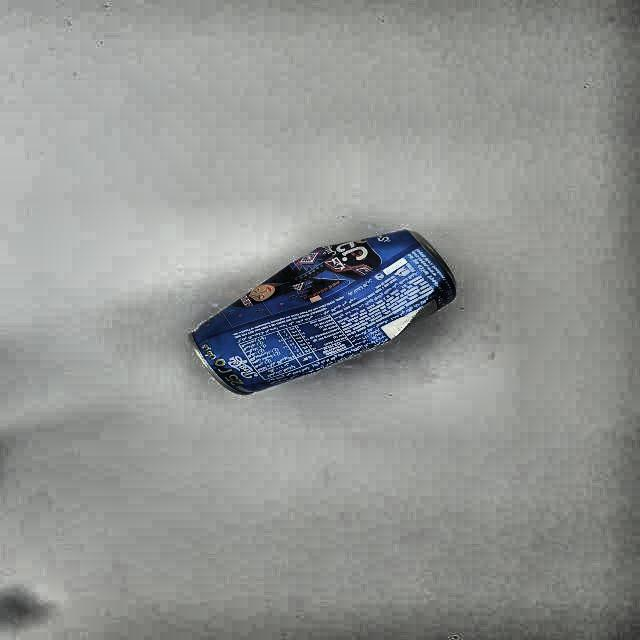metal: (189, 230, 458, 398)
